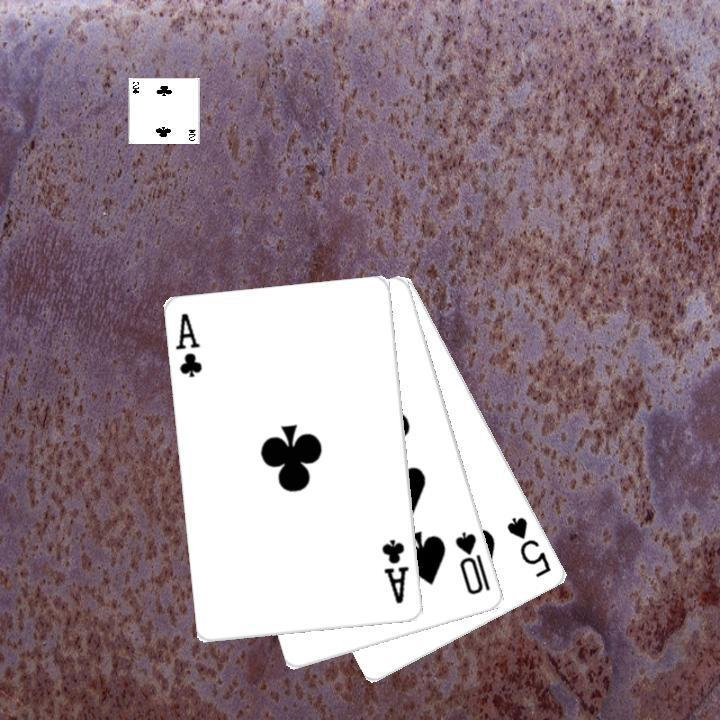10: (451, 527, 493, 597)
5: (503, 512, 554, 580)
A: (378, 536, 412, 606), (172, 309, 205, 380)
